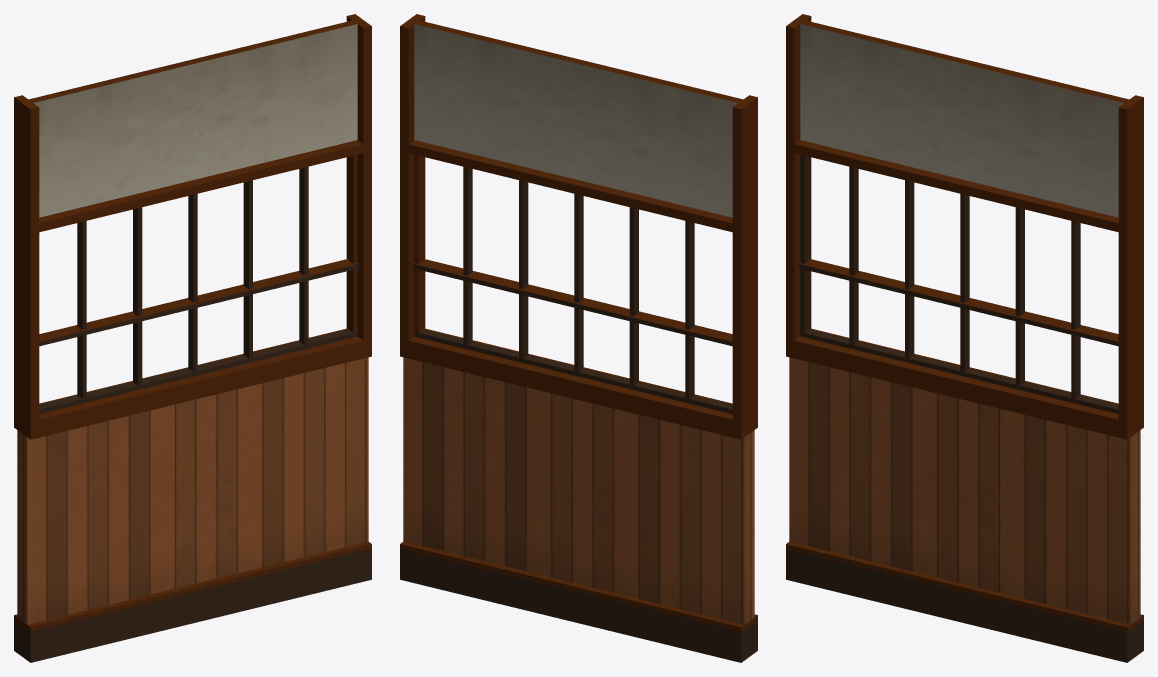
File: Bld_Dojo_Wall_Window.fbx
The picture shows the model from 3 angles, left to right: view 1: azimuth 30°, elevation 25°; view 2: azimuth 150°, elevation 25°; view 3: azimuth 330°, elevation 25°; orthographic projection.
Visible parts, largest first — view 1: Bld_Dojo_Wall_Window; view 2: Bld_Dojo_Wall_Window; view 3: Bld_Dojo_Wall_Window.
Boxes of the visible parts, x1,y1,x2,y2 form: Bld_Dojo_Wall_Window: (14,14,371,662); Bld_Dojo_Wall_Window: (400,14,757,662); Bld_Dojo_Wall_Window: (786,14,1143,662).
Size of the model in its own units: 400 by 620 by 33.8.
